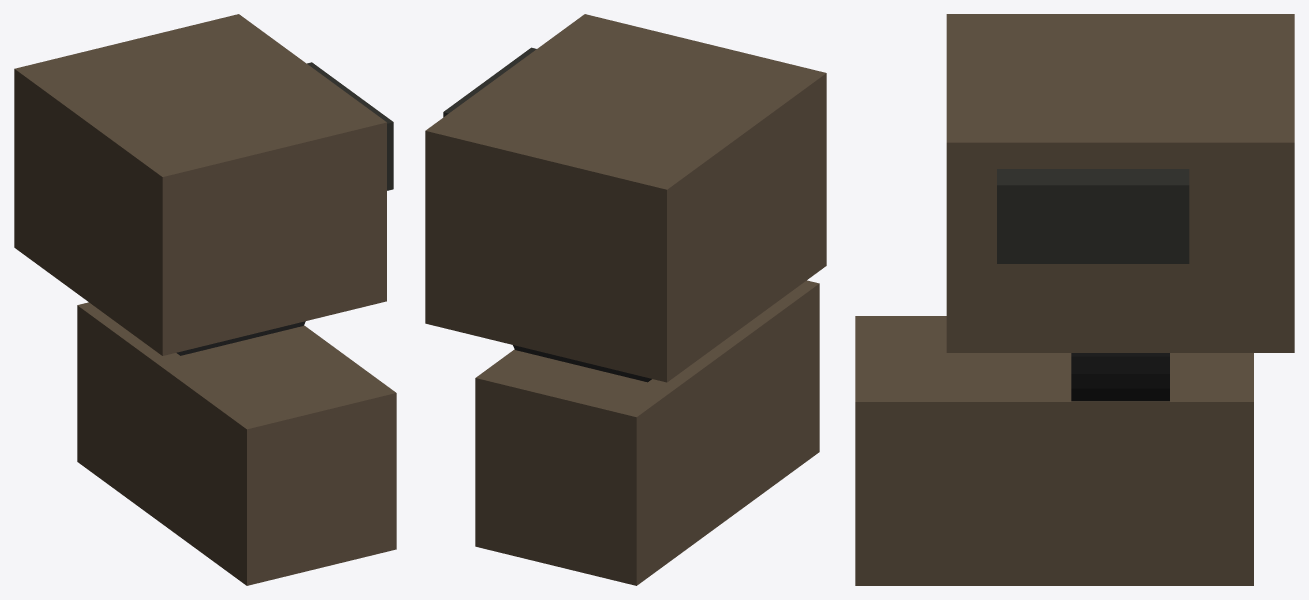
Rendered from arm_right_iron.obj.
3 views of the same model, side by side, from view 1: azimuth 30°, elevation 25°; view 2: azimuth 150°, elevation 25°; view 3: azimuth 270°, elevation 25° (orthographic). The views are drawn at different scales.
Size of the model in its own units: 0.6242 by 0.924 by 0.7998.
